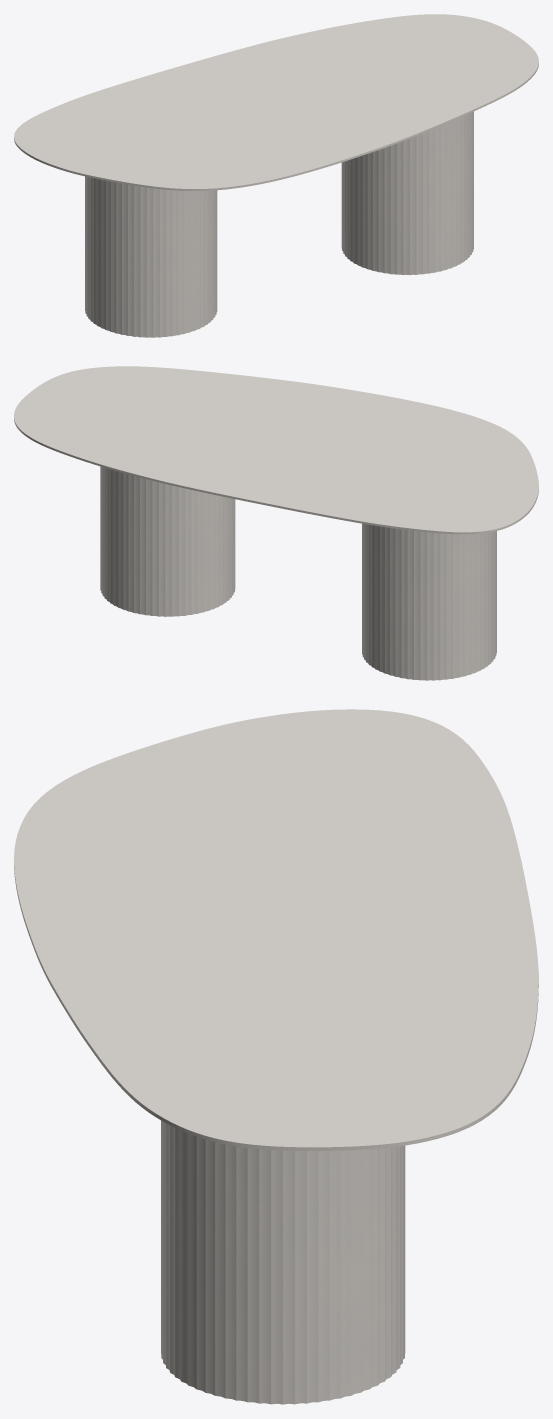
File: pearlwhite_leaf2_facet_ripplesecond.glb
3 renders of one model, top to bottom at view 1: azimuth 30°, elevation 25°; view 2: azimuth 150°, elevation 25°; view 3: azimuth 270°, elevation 25°, orthographic. The views are drawn at different scales.
Parts seen in each view (by area): view 1: facet_leaf2, ripplesecond; view 2: facet_leaf2, ripplesecond; view 3: facet_leaf2, ripplesecond.
Part boxes in pixels (x1,y1,x2,y2): facet_leaf2: [14, 14, 538, 191]; ripplesecond: [85, 111, 473, 337]; facet_leaf2: [14, 366, 538, 534]; ripplesecond: [100, 466, 496, 680]; facet_leaf2: [14, 709, 538, 1150]; ripplesecond: [161, 1120, 405, 1404].
Size of the model in its own units: 7.5 by 2.52 by 3.8.
1 material, 1 textured.
